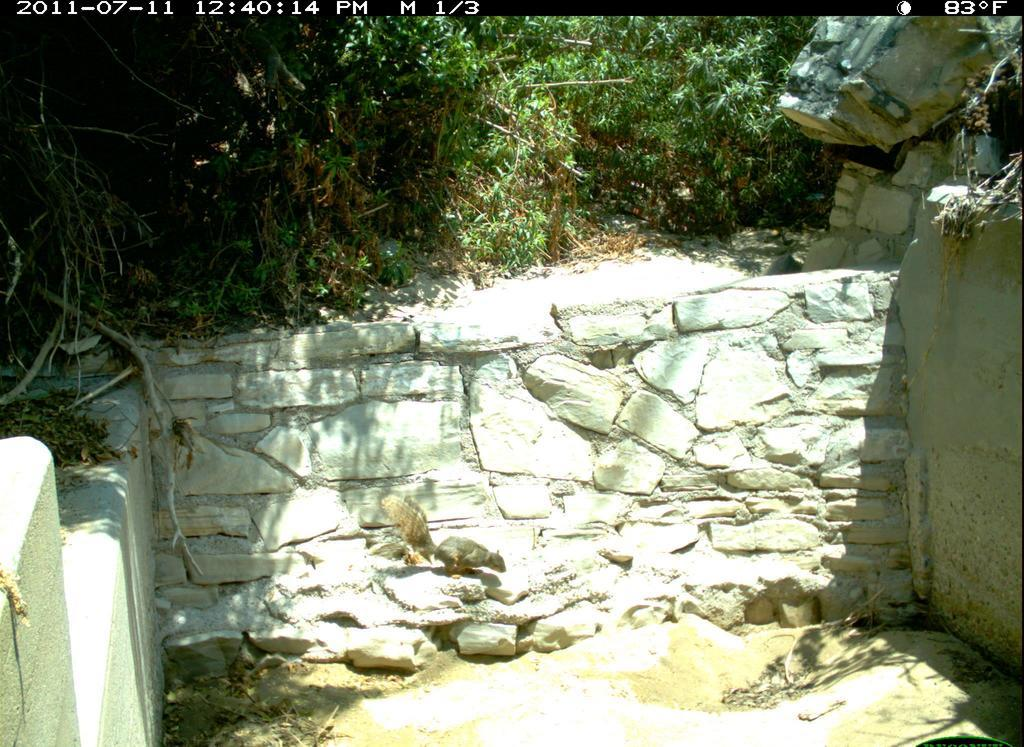squirrel: (369, 487, 516, 587)
